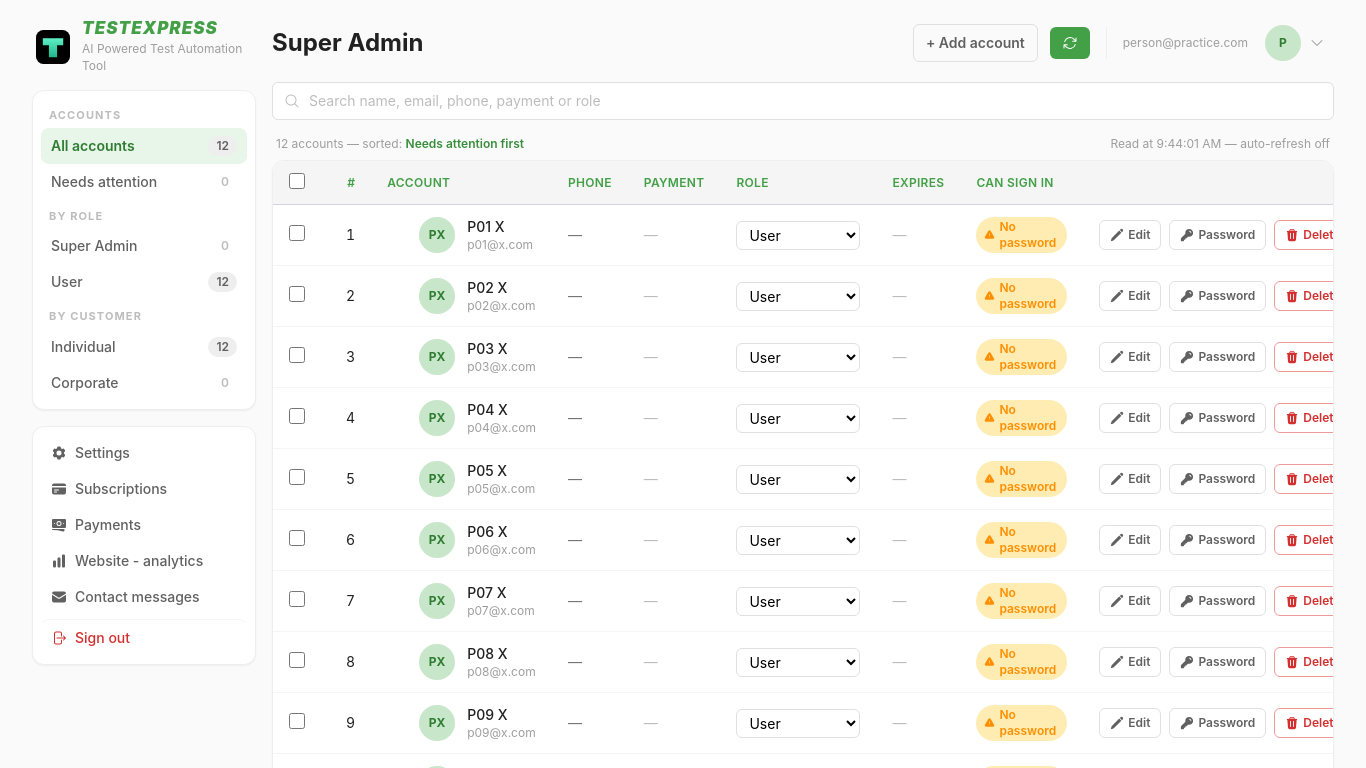
Scenario: pagination › a search that matches nothing reports zero rather than a page of none
Type "nobody" into the search field with placeholder "Search name, email, phone, payment or role" at {"x": 803, "y": 101}, box [272, 82, 1334, 120]
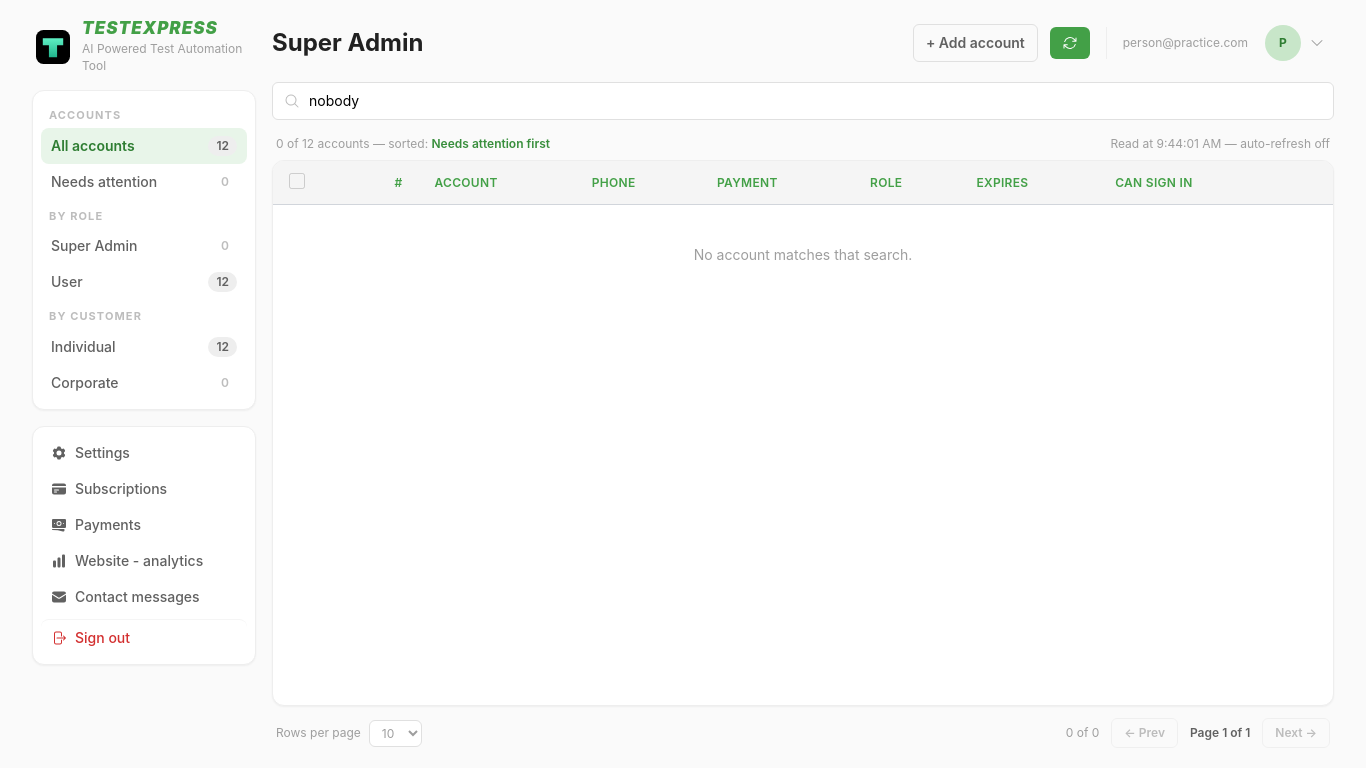
Now the navigation bar named "pagination" shows "0 of 0", box [1066, 725, 1099, 740]
Now the text "No account matches that search." is shown, box [273, 205, 1333, 305]
